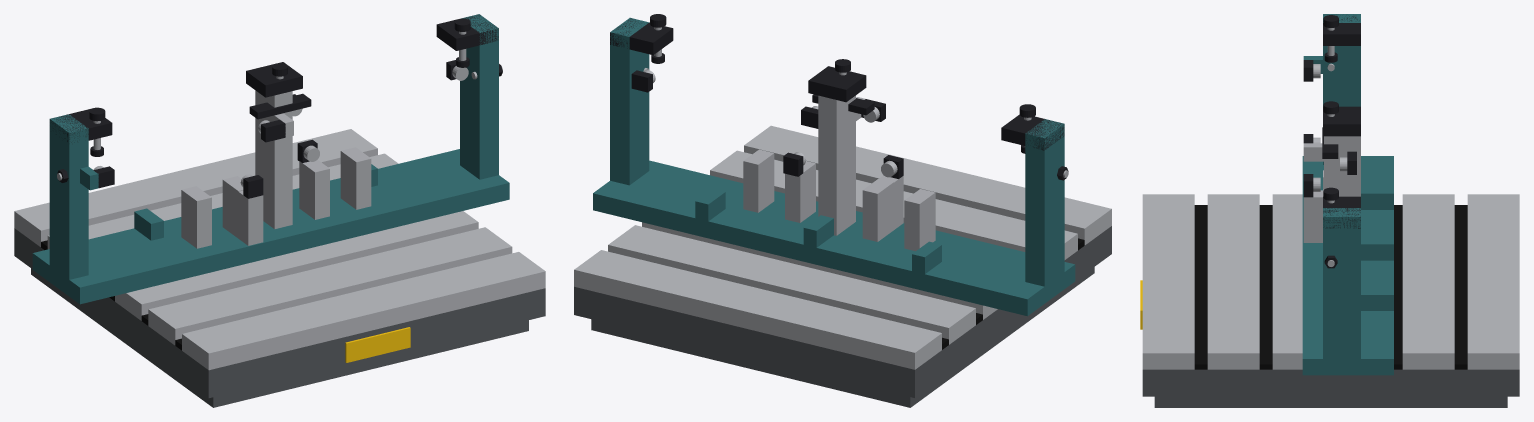
File: pallet_part00_phase30.glb
3 renders of one model, left to right at view 1: azimuth 30°, elevation 25°; view 2: azimuth 150°, elevation 25°; view 3: azimuth 270°, elevation 25°, orthographic. The views are drawn at different scales.
Parts seen in each view (by area): view 1: pallet_body__pb_steel, fixture__fx_paint, pallet_body__pb_steel_dark, fixture__fx_steel, fixture__fx_oxide, pallet_body__pb_safety_yellow, top_clamp_2__fx_oxide; view 2: pallet_body__pb_steel, fixture__fx_paint, pallet_body__pb_steel_dark, fixture__fx_steel, fixture__fx_oxide, top_clamp_2__fx_oxide; view 3: pallet_body__pb_steel, fixture__fx_paint, pallet_body__pb_steel_dark, pallet_body__pb_rubber, fixture__fx_oxide, fixture__fx_steel, top_clamp_2__fx_oxide.
Part boxes in pixels (bbox=[...]): pallet_body__pb_steel: bbox=[14, 129, 545, 370]; fixture__fx_paint: bbox=[32, 14, 509, 304]; pallet_body__pb_steel_dark: bbox=[14, 228, 545, 407]; fixture__fx_steel: bbox=[57, 66, 502, 248]; fixture__fx_oxide: bbox=[50, 14, 502, 198]; pallet_body__pb_safety_yellow: bbox=[345, 327, 410, 362]; top_clamp_2__fx_oxide: bbox=[249, 63, 311, 119]; pallet_body__pb_steel: bbox=[574, 125, 1111, 369]; fixture__fx_paint: bbox=[593, 17, 1075, 316]; pallet_body__pb_steel_dark: bbox=[574, 226, 1111, 407]; fixture__fx_steel: bbox=[643, 68, 1068, 251]; fixture__fx_oxide: bbox=[610, 18, 1068, 180]; top_clamp_2__fx_oxide: bbox=[812, 59, 874, 115]; pallet_body__pb_steel: bbox=[1142, 194, 1519, 369]; fixture__fx_paint: bbox=[1302, 14, 1393, 375]; pallet_body__pb_steel_dark: bbox=[1142, 369, 1519, 407]; pallet_body__pb_rubber: bbox=[1194, 205, 1467, 369]; fixture__fx_oxide: bbox=[1303, 14, 1360, 268]; fixture__fx_steel: bbox=[1303, 63, 1360, 266]; top_clamp_2__fx_oxide: bbox=[1322, 101, 1338, 158].
Bounding box in the file's own units: 0.8272 × 0.4221 × 0.634.
